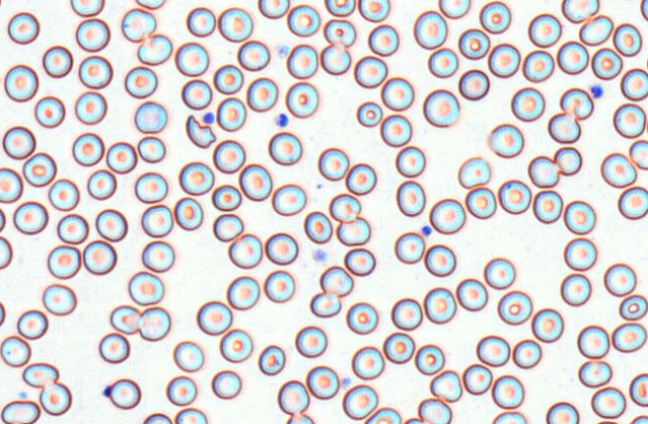PLT: (311, 247, 331, 265), (201, 108, 219, 125), (589, 81, 606, 99), (273, 113, 290, 128), (420, 225, 433, 238)
RBC: (422, 88, 459, 127), (342, 383, 378, 420), (3, 64, 38, 102), (413, 10, 447, 49), (600, 152, 636, 188), (429, 198, 465, 234), (217, 6, 253, 42), (238, 163, 272, 201), (196, 300, 232, 335), (423, 286, 456, 324), (121, 7, 156, 42), (227, 233, 262, 268), (488, 123, 523, 158), (510, 86, 545, 121), (174, 41, 209, 76), (497, 290, 532, 325), (22, 151, 56, 187), (612, 102, 646, 138), (178, 161, 214, 195), (128, 271, 164, 305), (12, 200, 48, 234), (82, 239, 116, 275), (285, 81, 318, 118), (75, 18, 110, 52), (226, 275, 260, 310), (497, 179, 531, 214), (380, 76, 414, 111), (47, 244, 81, 279), (487, 42, 520, 78), (305, 365, 339, 399), (563, 237, 597, 271), (527, 13, 561, 47), (268, 131, 302, 165), (78, 55, 112, 89), (39, 381, 72, 416), (491, 374, 524, 409), (351, 345, 384, 380), (137, 306, 170, 341), (563, 199, 596, 234), (590, 386, 626, 418), (246, 76, 278, 112), (286, 43, 318, 79), (559, 87, 593, 120), (264, 232, 298, 265), (603, 262, 636, 296), (212, 139, 245, 173), (353, 55, 387, 88), (219, 328, 252, 362), (455, 277, 488, 311), (379, 113, 412, 147), (2, 125, 35, 159), (556, 40, 589, 74), (74, 90, 107, 124), (277, 379, 309, 414), (137, 33, 172, 65), (531, 307, 563, 342), (271, 183, 306, 215), (429, 369, 462, 402), (134, 100, 167, 133), (124, 65, 157, 98), (476, 334, 510, 366), (42, 283, 76, 315), (479, 0, 511, 34), (317, 147, 349, 181), (577, 324, 609, 358), (72, 132, 104, 166), (286, 4, 320, 36), (106, 378, 141, 409), (578, 14, 613, 45), (395, 180, 425, 216), (527, 155, 559, 188), (547, 111, 580, 143), (319, 42, 351, 75), (457, 156, 490, 188), (382, 331, 414, 364), (294, 325, 327, 357), (7, 11, 39, 44), (390, 297, 422, 330), (346, 301, 378, 334), (95, 208, 127, 241), (134, 171, 167, 203), (141, 240, 174, 272), (424, 243, 456, 276), (483, 256, 515, 289), (263, 269, 295, 302), (105, 141, 137, 174), (141, 204, 173, 237), (367, 23, 399, 56), (237, 39, 270, 71), (522, 49, 554, 82), (319, 265, 353, 296), (560, 272, 591, 306), (611, 322, 646, 352), (216, 96, 246, 131), (172, 340, 204, 372), (0, 334, 31, 367), (345, 162, 376, 195), (48, 178, 79, 211), (394, 231, 425, 264), (465, 186, 496, 219), (34, 95, 65, 128), (591, 47, 622, 80), (336, 216, 370, 246), (532, 189, 562, 223), (612, 22, 642, 56), (173, 196, 203, 230), (56, 213, 88, 244), (458, 68, 489, 100), (165, 375, 197, 406), (42, 45, 73, 77), (181, 78, 212, 110), (458, 28, 490, 59), (328, 192, 361, 222), (617, 186, 647, 219), (577, 359, 612, 387), (22, 362, 59, 388), (98, 332, 129, 363), (427, 47, 458, 78), (185, 6, 216, 37), (0, 399, 40, 423), (16, 309, 48, 339), (414, 343, 444, 375), (86, 168, 116, 200), (462, 363, 492, 395), (395, 145, 425, 177), (303, 210, 332, 243), (323, 18, 356, 47), (109, 304, 140, 334), (213, 63, 243, 94), (620, 67, 647, 101), (211, 369, 241, 399), (212, 213, 243, 242), (344, 247, 375, 276), (417, 397, 451, 423), (512, 338, 541, 368), (257, 344, 285, 375), (561, 0, 598, 23), (553, 146, 582, 175), (309, 291, 341, 317), (0, 167, 23, 203), (211, 184, 241, 211), (137, 135, 165, 163), (618, 294, 647, 320), (545, 401, 579, 423), (357, 0, 389, 22), (356, 100, 382, 127), (364, 406, 401, 423), (629, 373, 647, 407), (257, 0, 289, 19), (438, 0, 470, 18), (629, 139, 647, 170), (70, 0, 104, 16), (174, 407, 207, 423), (324, 0, 355, 17), (491, 410, 526, 423), (0, 235, 12, 269), (142, 412, 172, 423), (285, 412, 314, 423), (135, 0, 165, 9), (640, 0, 648, 21), (629, 414, 647, 423), (0, 301, 6, 326), (0, 207, 6, 231), (403, 417, 425, 423), (595, 419, 619, 423)
Schistocyte: (184, 115, 216, 148)
